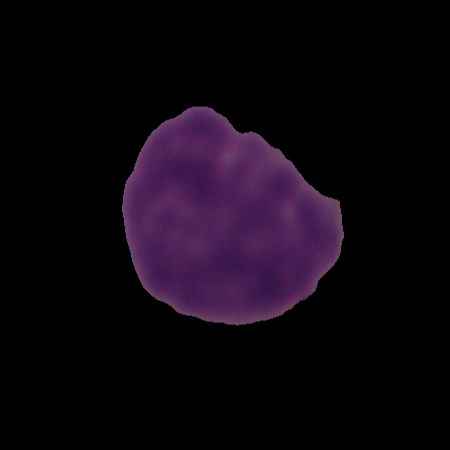HEM: (118, 103, 347, 328)
